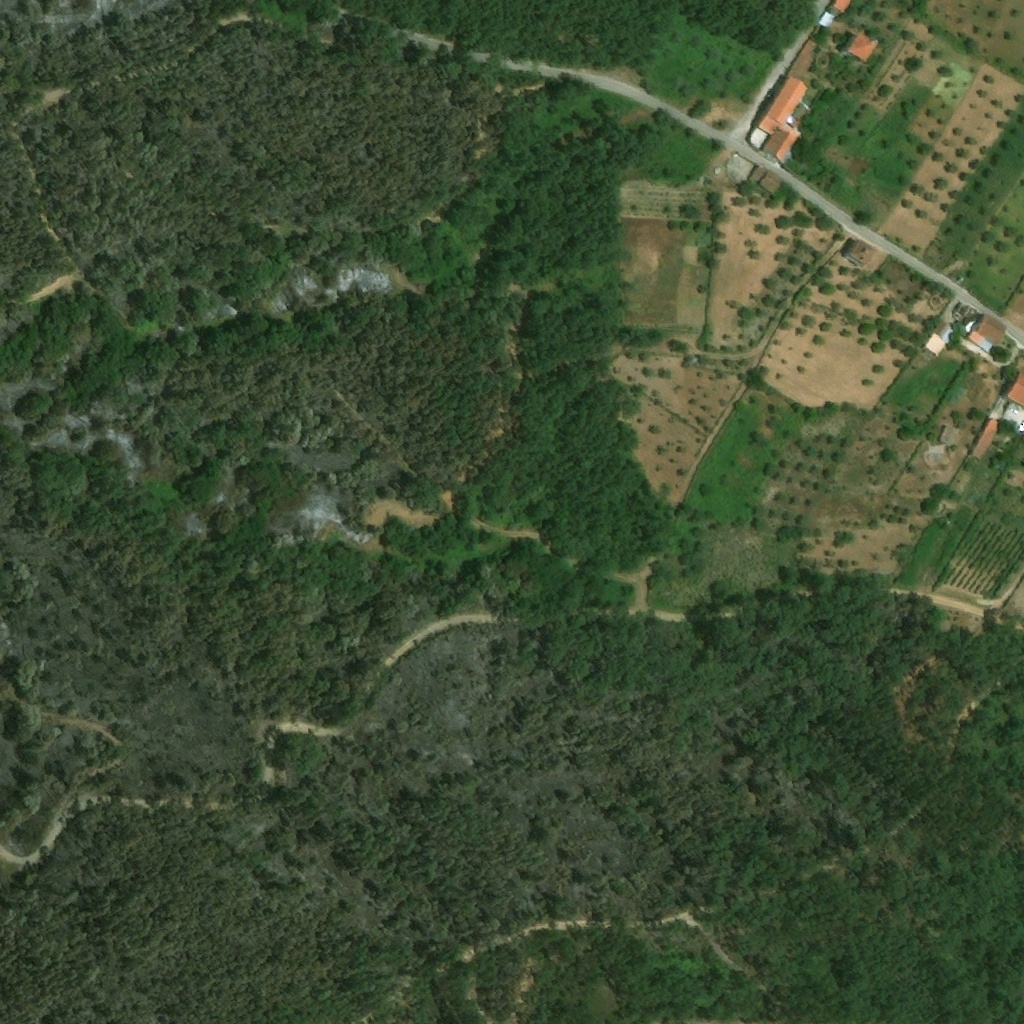0 no-damage: (755, 76, 810, 163), (966, 311, 1008, 354), (968, 418, 999, 461), (787, 38, 820, 77), (747, 164, 784, 195), (924, 322, 956, 356), (847, 28, 879, 61), (843, 239, 877, 266), (951, 300, 980, 331)
4 un-classified: (818, 0, 851, 28), (1004, 367, 1023, 407)
